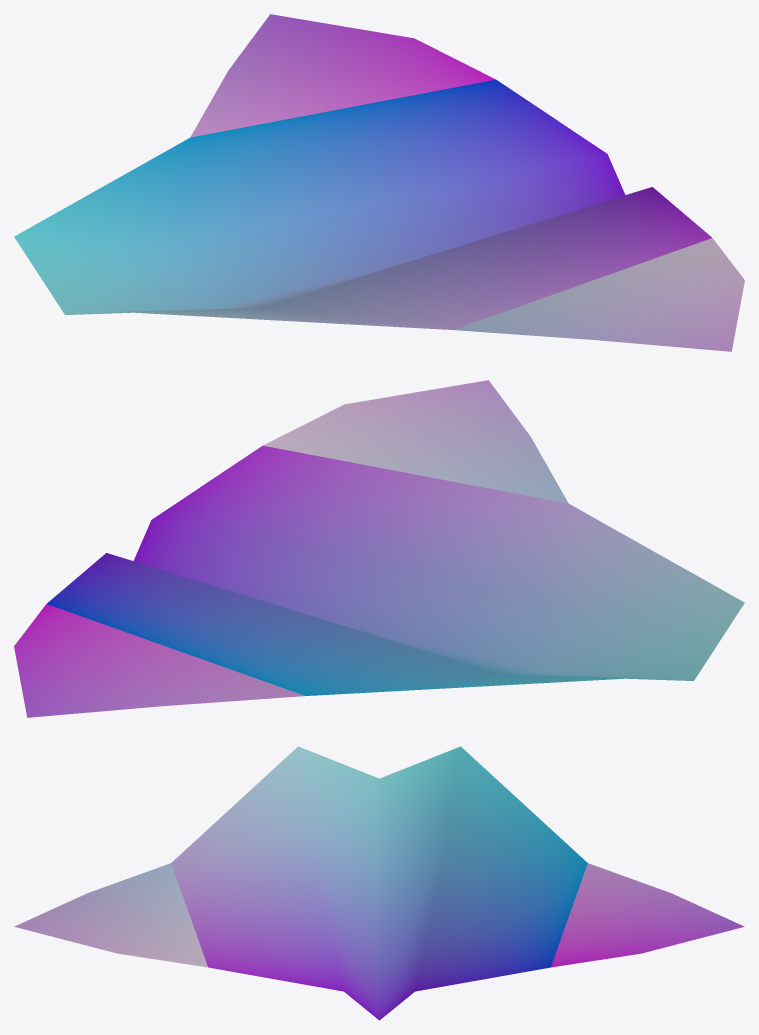
The picture shows the model from 3 angles, top to bottom: view 1: azimuth 30°, elevation 25°; view 2: azimuth 150°, elevation 25°; view 3: azimuth 270°, elevation 25°; orthographic projection. The views are drawn at different scales.
Visible parts, largest first — view 1: SM_VFX_Beast_Druid_NatureBolt_Shockwave_LOD0; view 2: SM_VFX_Beast_Druid_NatureBolt_Shockwave_LOD0; view 3: SM_VFX_Beast_Druid_NatureBolt_Shockwave_LOD0.
Boxes of the visible parts, box(x1,y1,x2,y2) form: SM_VFX_Beast_Druid_NatureBolt_Shockwave_LOD0: box(14, 14, 744, 351); SM_VFX_Beast_Druid_NatureBolt_Shockwave_LOD0: box(14, 380, 744, 717); SM_VFX_Beast_Druid_NatureBolt_Shockwave_LOD0: box(14, 746, 744, 1020).
Bounding box in the file's own units: 0.0777 × 0.00925 × 0.1099.
